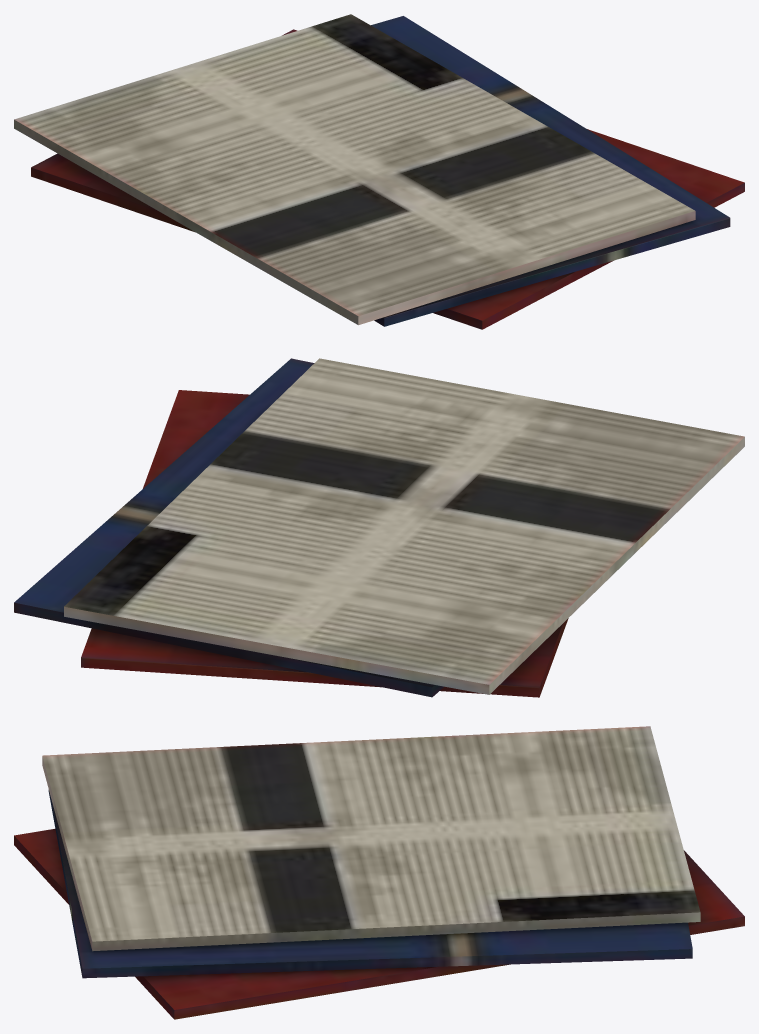
The model's file is magazine_pile_lod1_web.glb.
3 renders of one model, top to bottom at view 1: azimuth 30°, elevation 25°; view 2: azimuth 150°, elevation 25°; view 3: azimuth 270°, elevation 25°, orthographic. The views are drawn at different scales.
Parts seen in each view (by area): view 1: MagazinePile_Body; view 2: MagazinePile_Body; view 3: MagazinePile_Body.
Part boxes in pixels (<box>): MagazinePile_Body: <box>14,14,744,329</box>; MagazinePile_Body: <box>14,358,744,697</box>; MagazinePile_Body: <box>14,726,744,1019</box>.
Bounding box in the file's own units: 0.3007 × 0.017 × 0.3463.
1 material, 1 textured.
